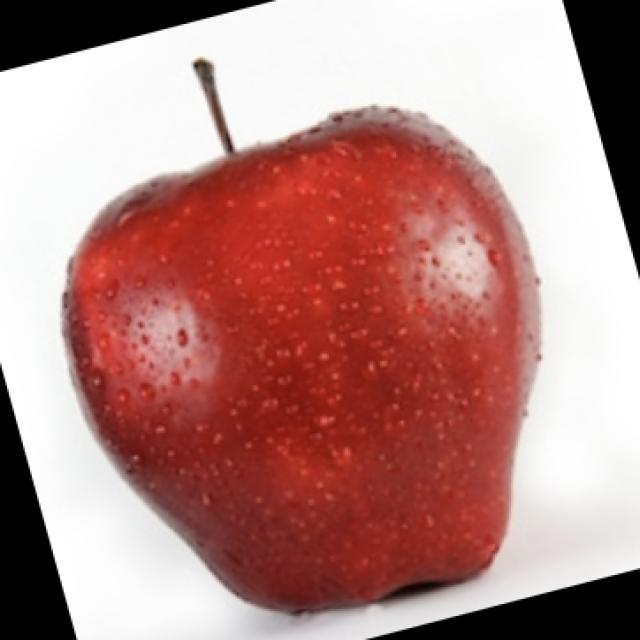Apple: (60, 57, 543, 615)
